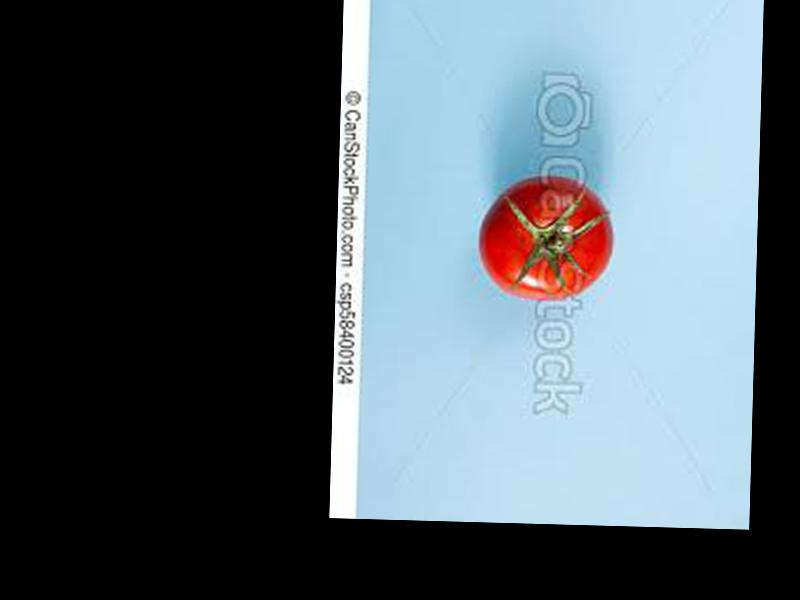Tomato: (475, 177, 613, 300)
